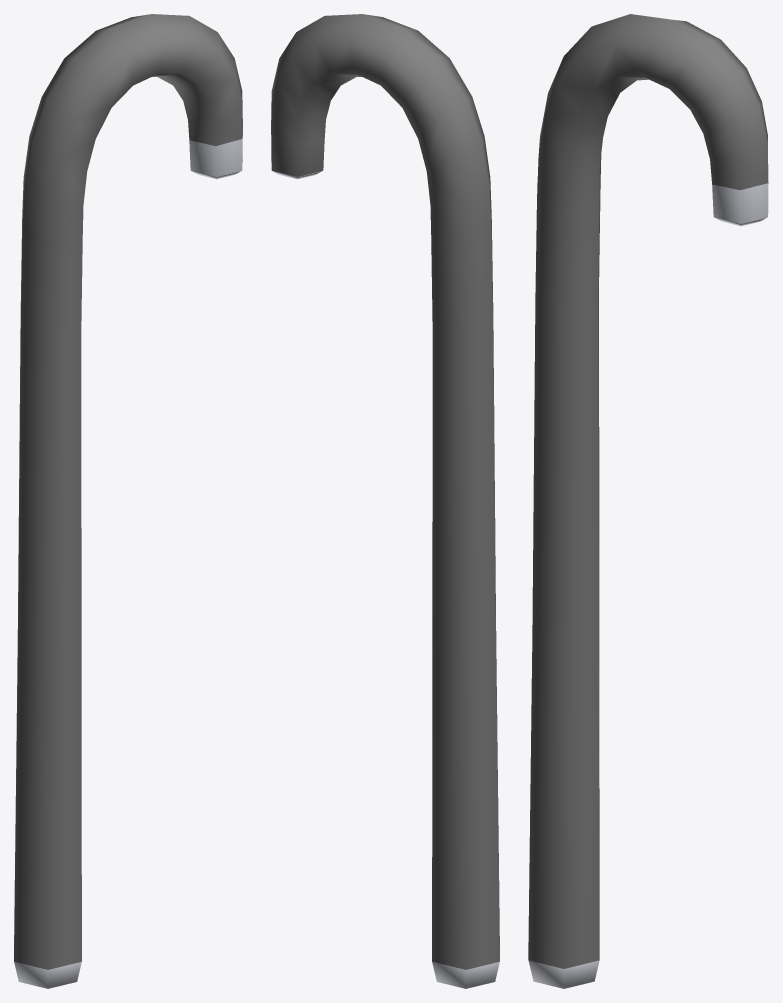
File: Santa_weapon.fbx
The picture shows the model from 3 angles, left to right: view 1: azimuth 30°, elevation 25°; view 2: azimuth 150°, elevation 25°; view 3: azimuth 330°, elevation 25°; orthographic projection. The views are drawn at different scales.
Parts seen in each view (by area): view 1: Santa_weapon; view 2: Santa_weapon; view 3: Santa_weapon.
Part boxes in pixels (x1,y1,x2,y2): Santa_weapon: (14, 14, 242, 988); Santa_weapon: (271, 14, 499, 988); Santa_weapon: (528, 14, 768, 988).
Size of the model in its own units: 6.66 by 26.01 by 1.72.
